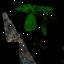Purslane: (3, 0, 64, 64)
